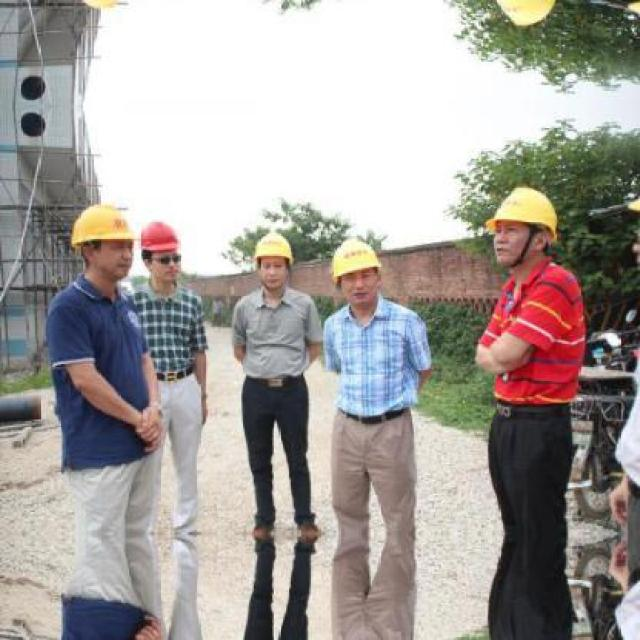helmet: (483, 178, 565, 240), (74, 205, 135, 258), (329, 236, 389, 284), (137, 222, 183, 264), (255, 227, 294, 265)
